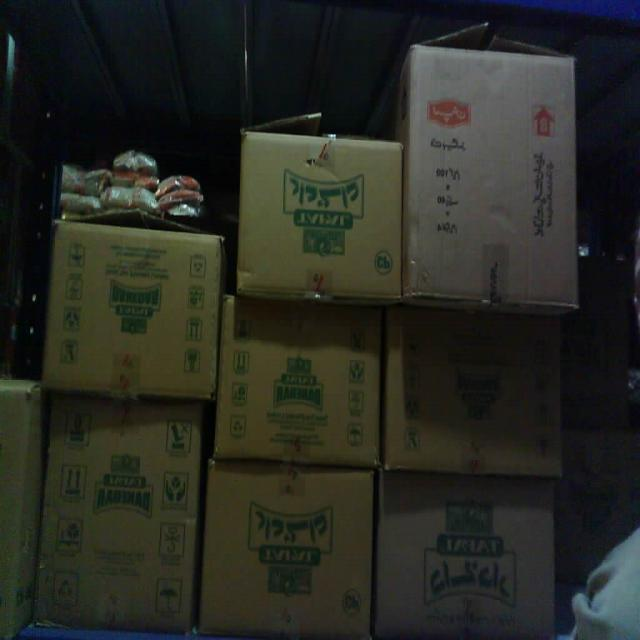cardboxes: (404, 40, 581, 314), (30, 398, 206, 636), (38, 222, 224, 399), (194, 464, 377, 640), (372, 472, 558, 639), (380, 312, 566, 477), (207, 300, 386, 466), (232, 136, 408, 304)
